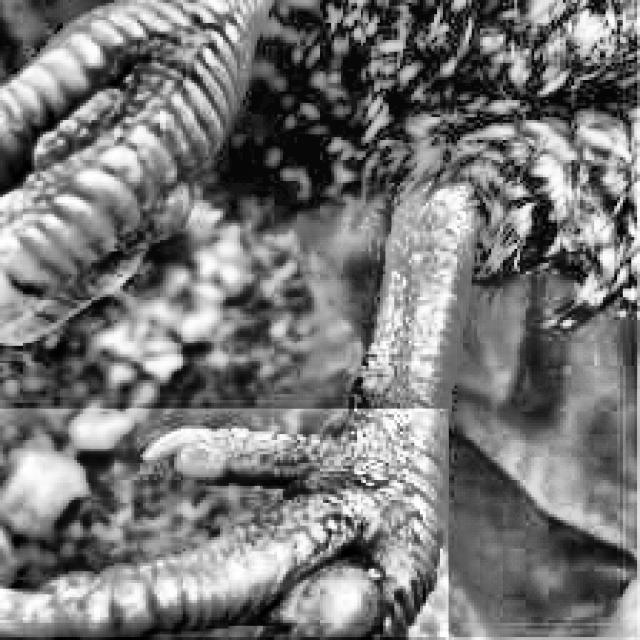Bumble foot: (154, 433, 479, 640)
